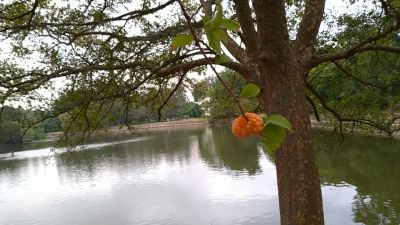eggs: (231, 112, 265, 140)
